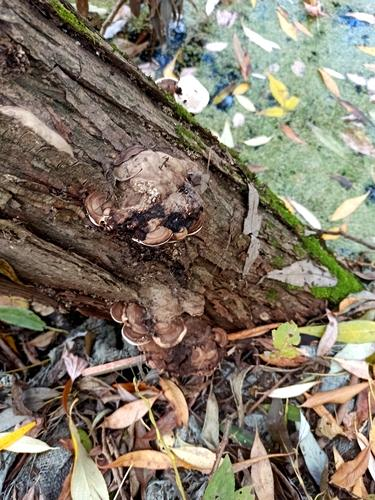Ganoderma - Fruit Body: (80, 151, 204, 246), (110, 285, 220, 389)
